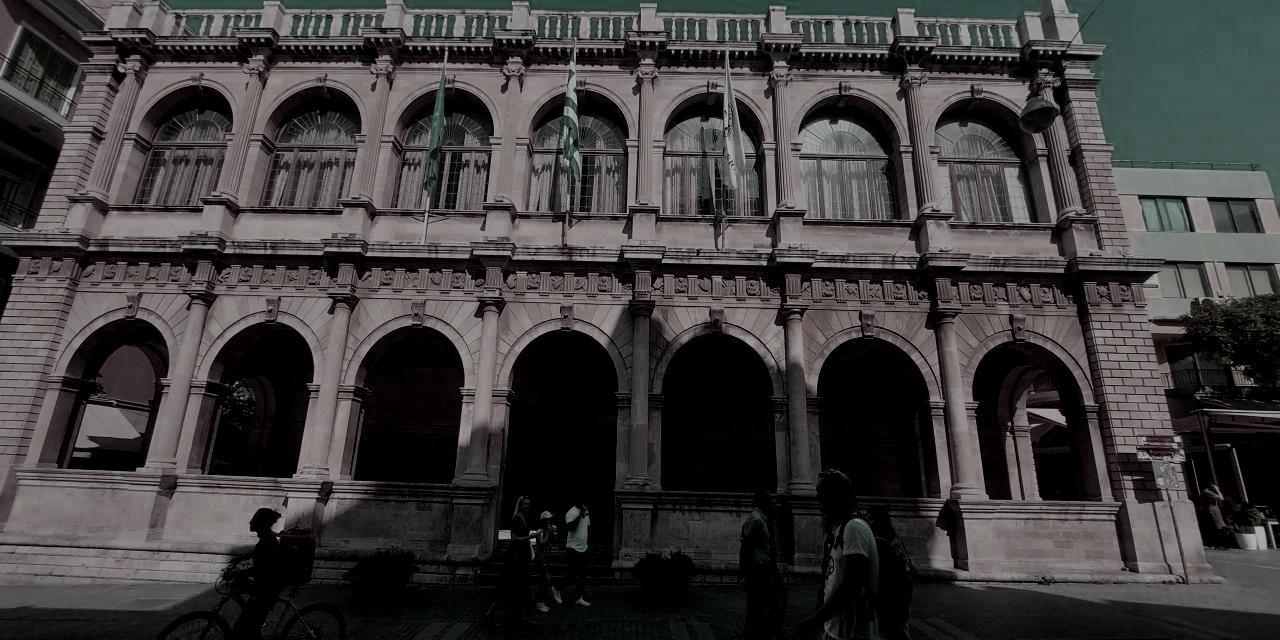Loggia: (1, 1, 1230, 584)
